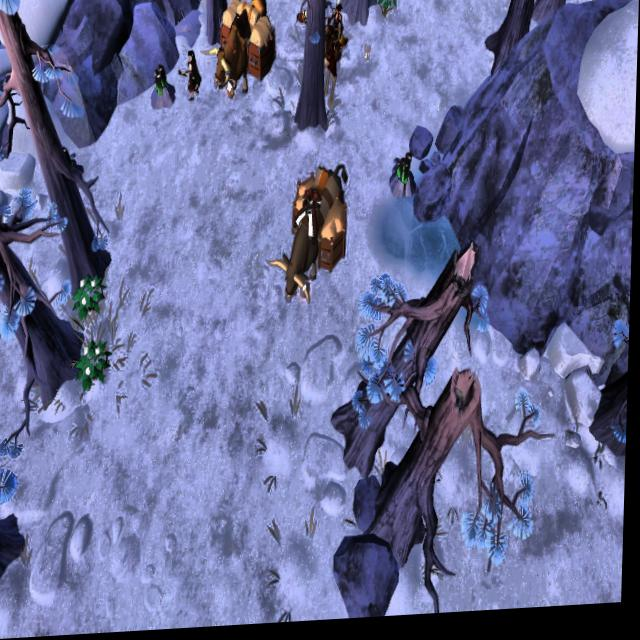fiber_t3: (77, 341, 113, 393), (76, 272, 106, 321), (374, 0, 403, 26)
ore_t3: (395, 149, 415, 191), (153, 61, 168, 102)
